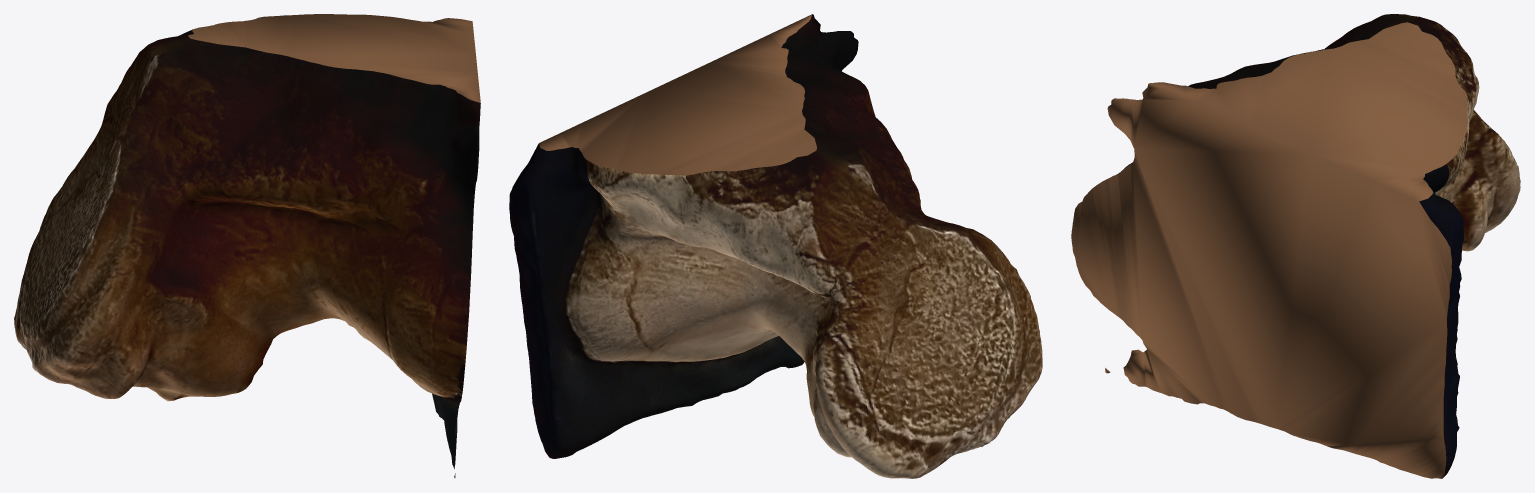
Rendered from sculpture_971482f2.glb.
The picture shows the model from 3 angles, left to right: view 1: azimuth 30°, elevation 25°; view 2: azimuth 150°, elevation 25°; view 3: azimuth 270°, elevation 25°; orthographic projection. The views are drawn at different scales.
Parts seen in each view (by area): view 1: Object_2; view 2: Object_2; view 3: Object_2.
Boxes of the visible parts, x1,y1,x2,y2 form: Object_2: (14,14,480,477); Object_2: (509,14,1042,478); Object_2: (1071,14,1520,478).
Bounding box in the file's own units: 0.2146 × 0.1623 × 0.1907.
1 material, 1 textured.
